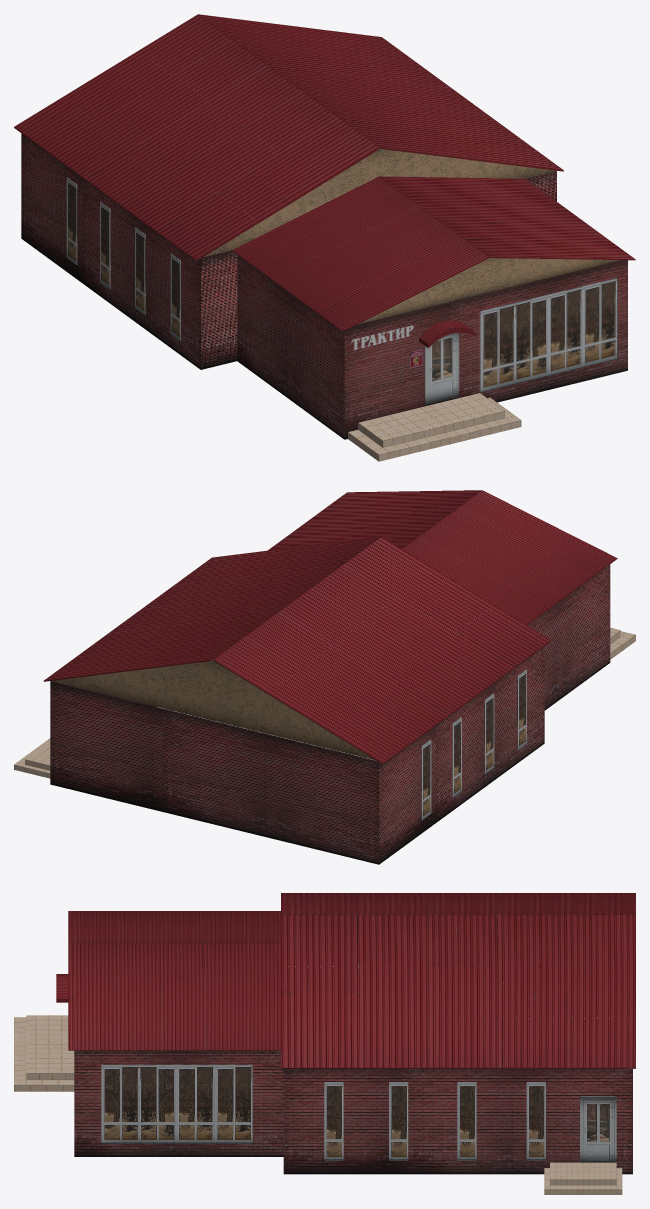
File: r254_isilkul_traktir.FBX
The picture shows the model from 3 angles, top to bottom: view 1: azimuth 30°, elevation 25°; view 2: azimuth 150°, elevation 25°; view 3: azimuth 270°, elevation 25°; orthographic projection. The views are drawn at different scales.
Parts seen in each view (by area): view 1: r254_isilkul_traktir; view 2: r254_isilkul_traktir; view 3: r254_isilkul_traktir.
Part boxes in pixels (<box>): r254_isilkul_traktir: <box>14,14,635,461</box>; r254_isilkul_traktir: <box>14,490,635,864</box>; r254_isilkul_traktir: <box>14,893,635,1194</box>.
Bounding box in the file's own units: 12.93 × 17.56 × 5.46.
